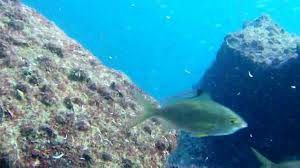azi: (124, 88, 249, 140)
